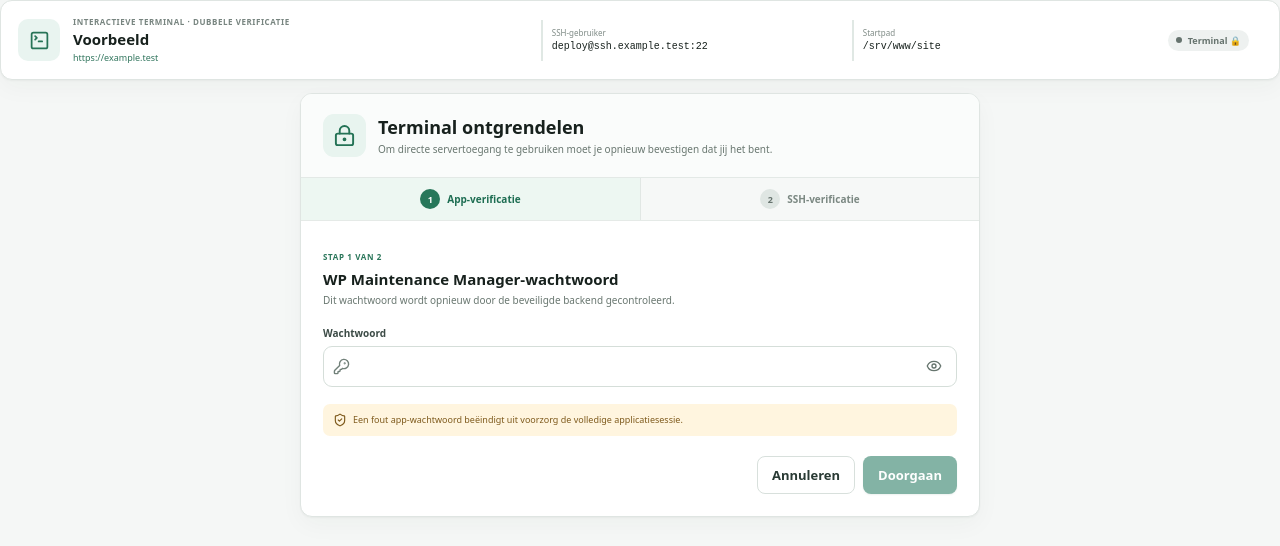
SshTerminal › resets to the login screen when the remote shell exits
This screenshot has width=1280, height=546.
Type "app-secret" into the password field labelled "Wachtwoord" at [636, 366], box [358,346,913,386]
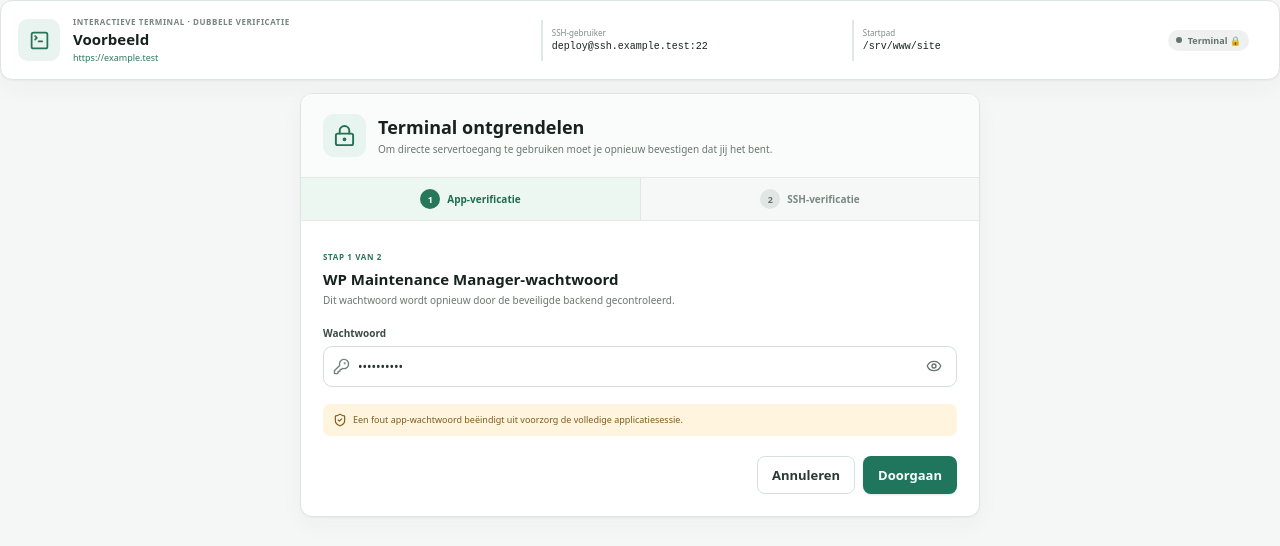
Submit the form with test id "terminal-app-auth", box [301,221,979,516]
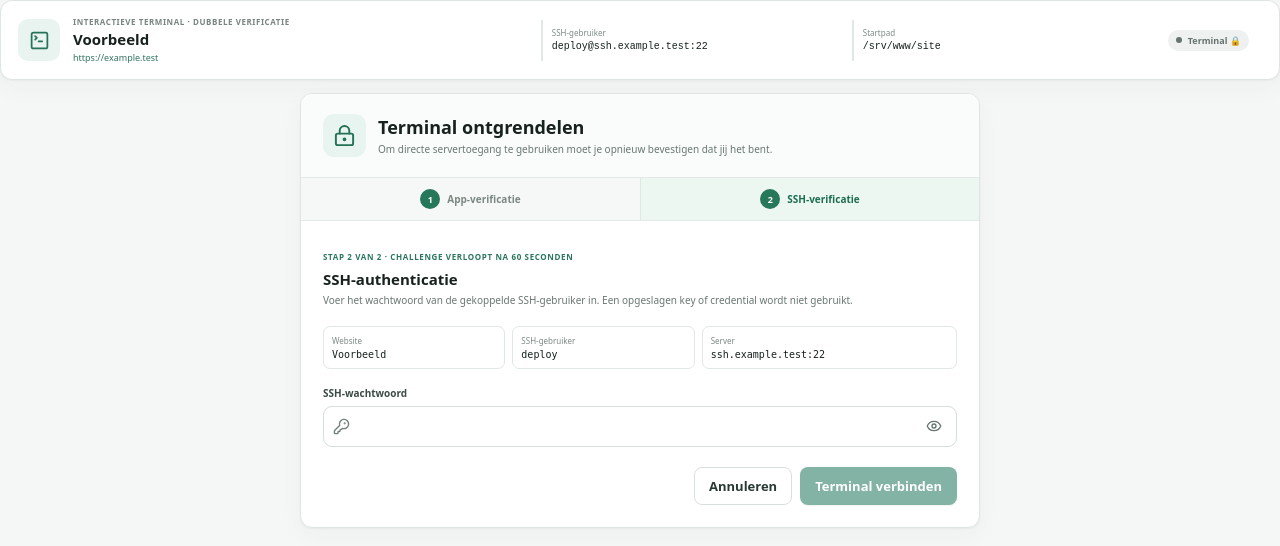
Type "ssh-secret" into the password field labelled "SSH-wachtwoord" at [636, 426], box [358,406,913,446]
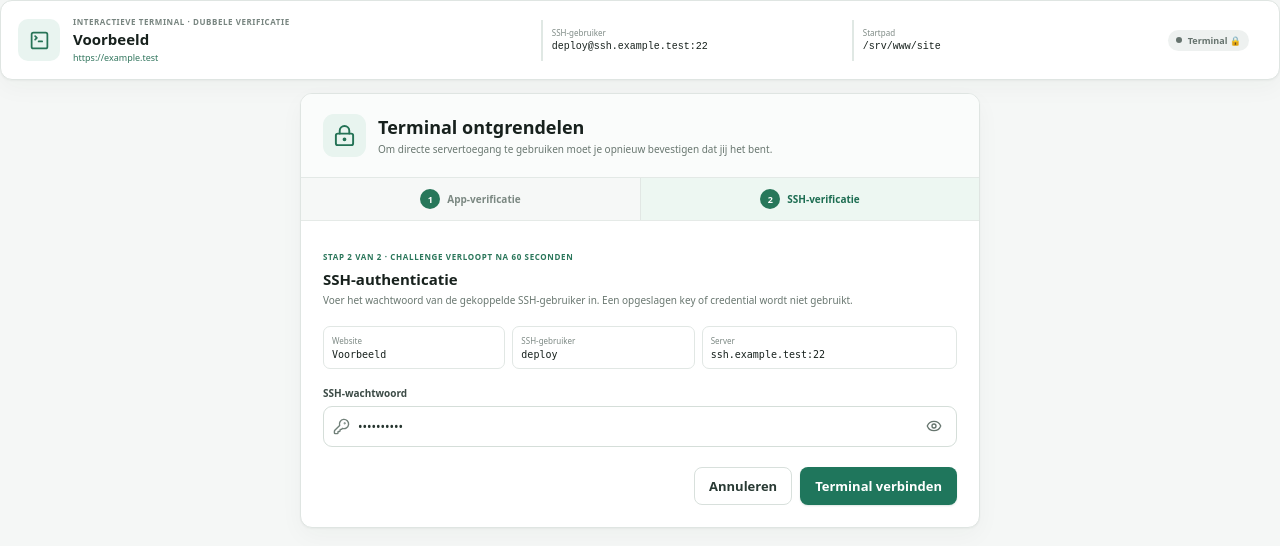
Submit the form with test id "terminal-ssh-auth", box [301,221,979,526]
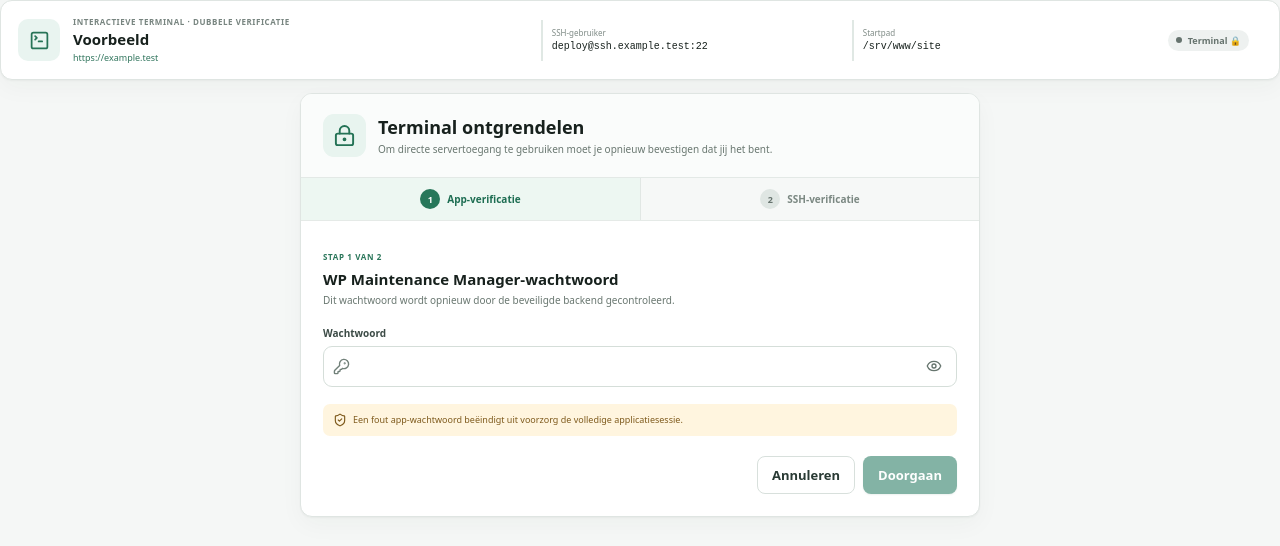
Expected: the text "Terminal ontgrendelen" is shown, [378,114,584,138]
Expected: the form with test id "terminal-app-auth" is shown, [301,221,979,516]
